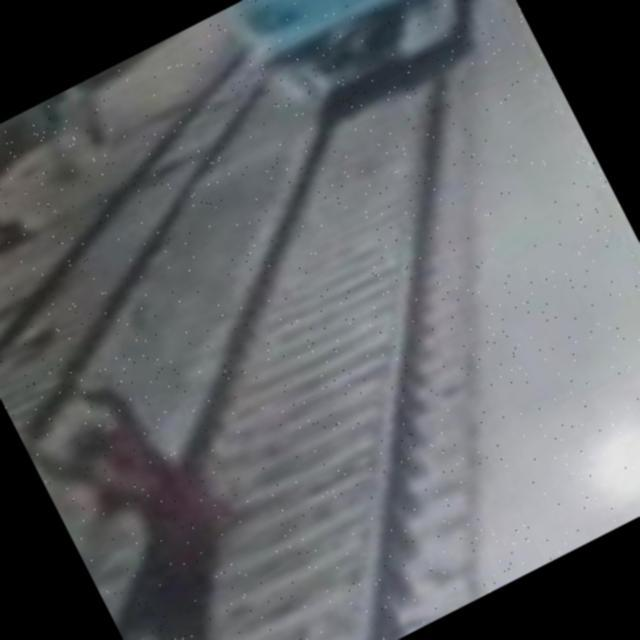person: (2, 283, 383, 640)
